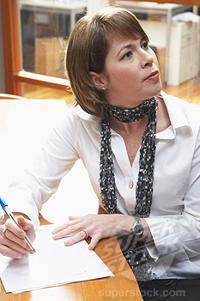person: (2, 9, 200, 281)
